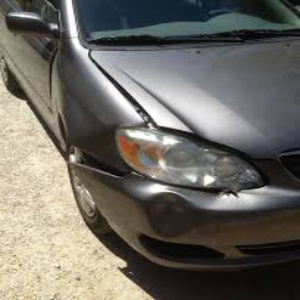bumper: (121, 185, 222, 244)
